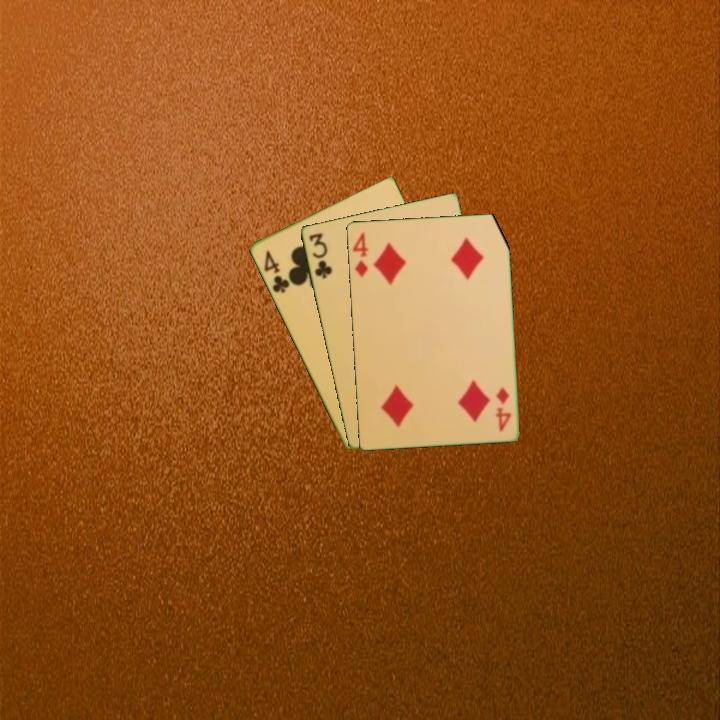3c: (305, 229, 335, 282)
4c: (260, 247, 292, 296)
4d: (349, 228, 371, 279), (492, 383, 513, 434)
